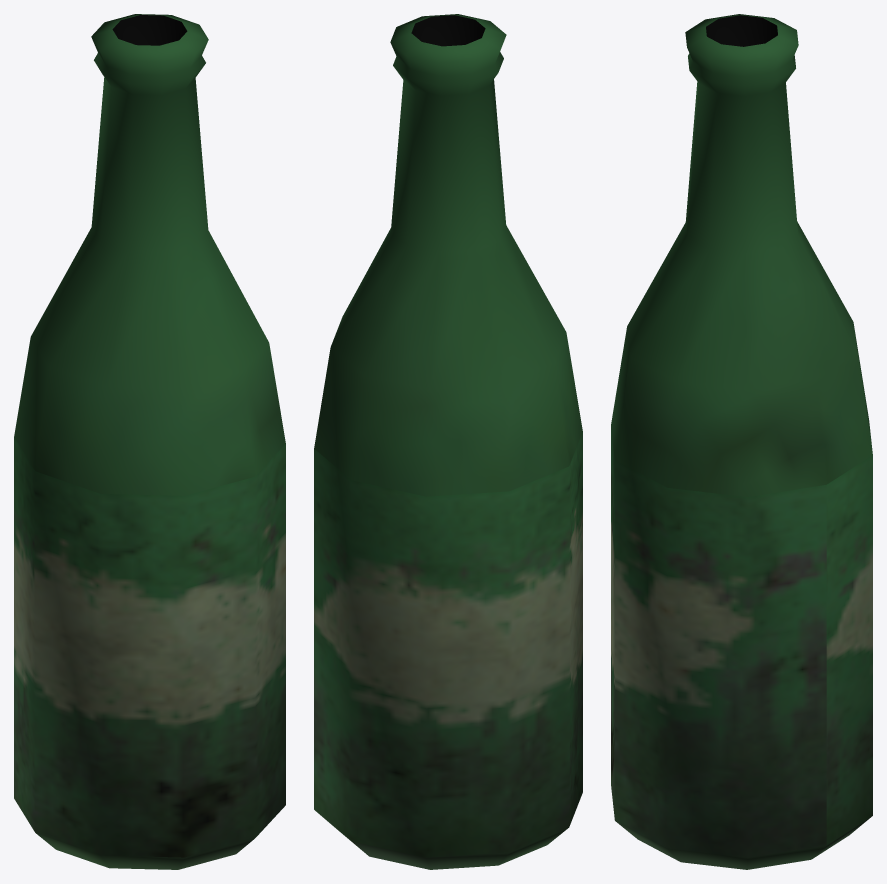
File: Garbage1_9.fbx
3 renders of one model, left to right at view 1: azimuth 30°, elevation 25°; view 2: azimuth 150°, elevation 25°; view 3: azimuth 270°, elevation 25°, orthographic.
Parts seen in each view (by area): view 1: polySurface17; view 2: polySurface17; view 3: polySurface17.
Part boxes in pixels (<box>): polySurface17: <box>14,14,285,869</box>; polySurface17: <box>314,14,582,869</box>; polySurface17: <box>611,14,872,869</box>.
Bounding box in the file's own units: 0.533 × 1.72 × 0.5145.
